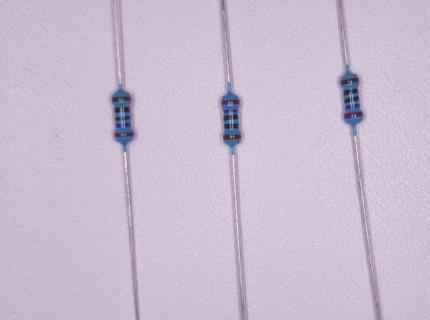Black band: (224, 115, 238, 122), (115, 107, 130, 113), (343, 89, 358, 95), (344, 97, 359, 103), (225, 123, 239, 129), (115, 116, 131, 121)
Brown band: (341, 78, 359, 85), (223, 134, 241, 140), (112, 97, 130, 102)
Red band: (344, 112, 363, 119), (221, 99, 240, 105), (115, 132, 134, 137)
Violet band: (345, 104, 360, 110), (116, 123, 131, 128), (224, 109, 238, 114)
